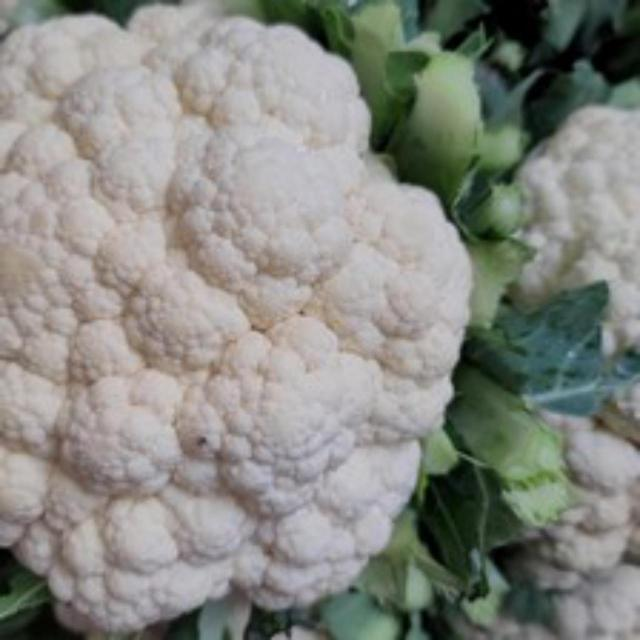cauliflower: (0, 3, 491, 637)
